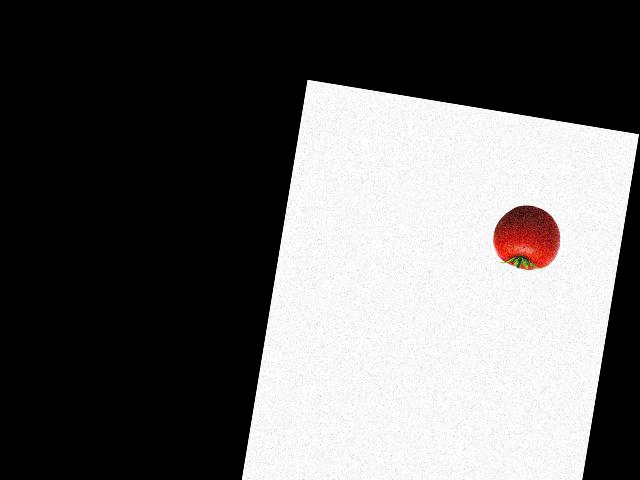tomato: (489, 200, 557, 273)
